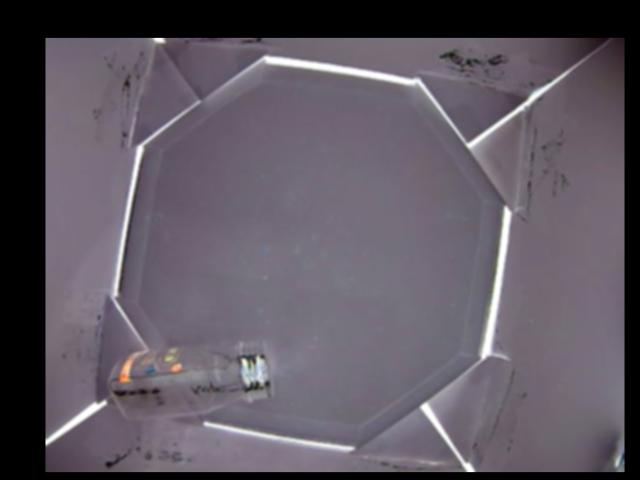Bottle: (106, 340, 276, 423)
